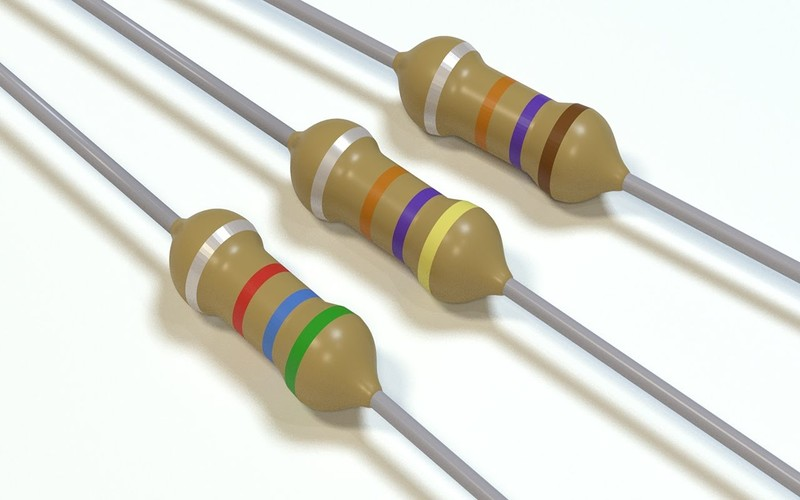Resistor: (133, 29, 664, 431)
